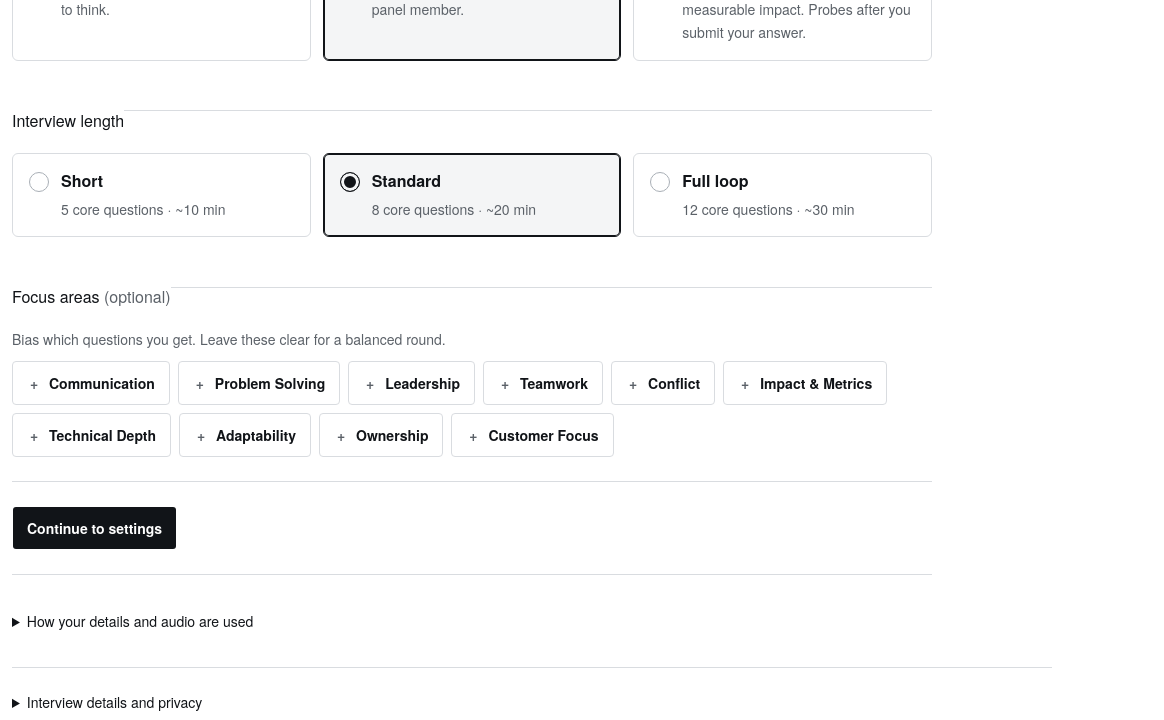
Test case: shows the error and allows another try when the selected job is deleted after setup has loaded
(page scrolled)
What coordinates should you click on to do the following:
click the button "Continue to settings"
I would click on:
 (95, 528)
Its box is [12,506,177,550].
(page scrolled)
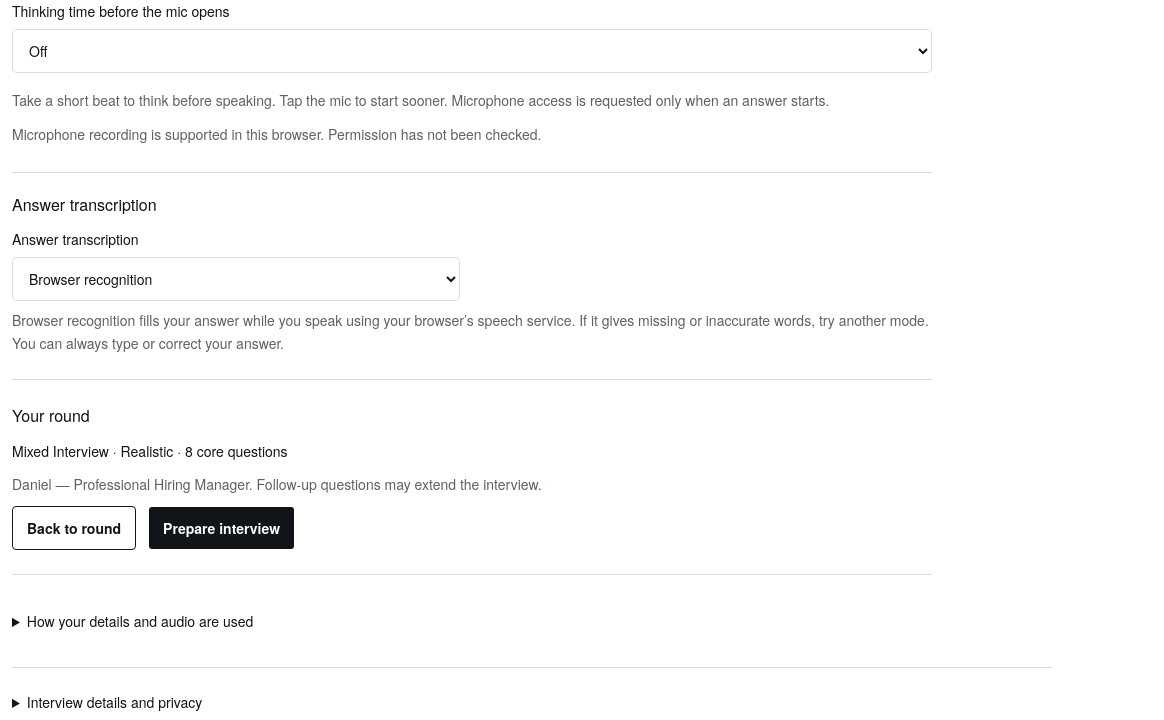
What coordinates should you click on to do the following:
click the button "Prepare interview"
I would click on:
 (222, 528)
Its box is [148,506,295,550].
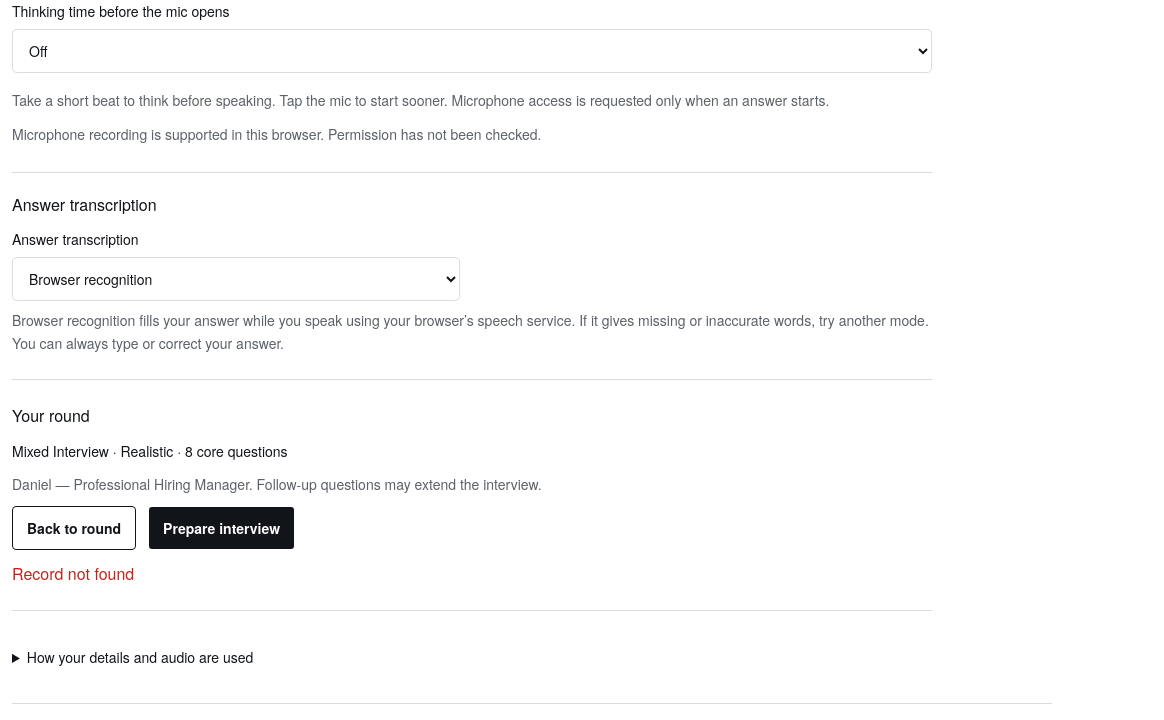
Check: the button "Prepare interview" is enabled, box [148,506,295,550]
Check: the message reads "Record not found", box [12,562,134,585]
